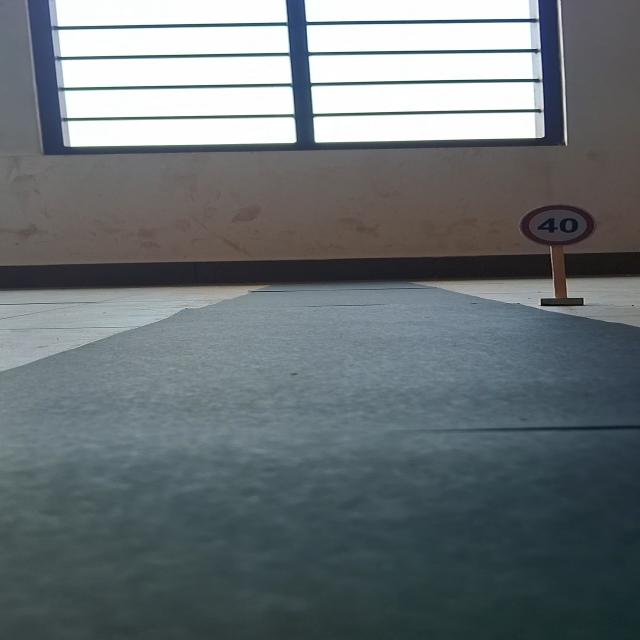Speed40: (518, 200, 599, 251)
